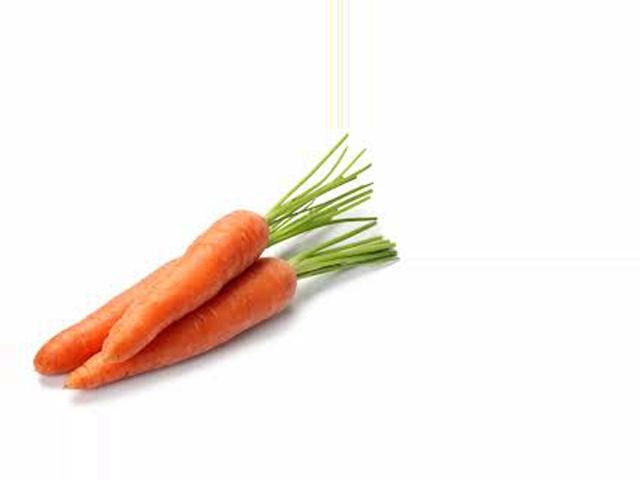carrot: (51, 259, 339, 397)
